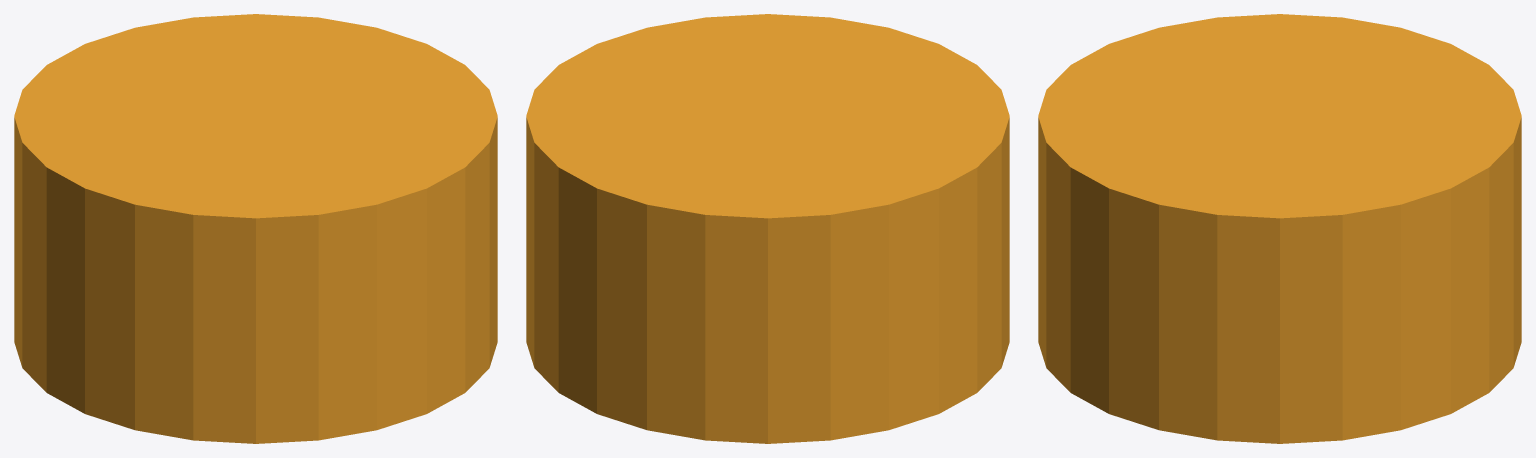
File: MotionReady_Tank_Manual_Fill_Button.obj
The picture shows the model from 3 angles, left to right: view 1: azimuth 30°, elevation 25°; view 2: azimuth 150°, elevation 25°; view 3: azimuth 270°, elevation 25°; orthographic projection.
Parts seen in each view (by area): view 1: Tank_Manual_Button; view 2: Tank_Manual_Button; view 3: Tank_Manual_Button.
Part boxes in pixels (box(x1,y1,x2,y2)): Tank_Manual_Button: box(14, 14, 497, 443); Tank_Manual_Button: box(526, 14, 1009, 443); Tank_Manual_Button: box(1038, 14, 1521, 443).
Bounding box in the file's own units: 68 × 35 × 68.
